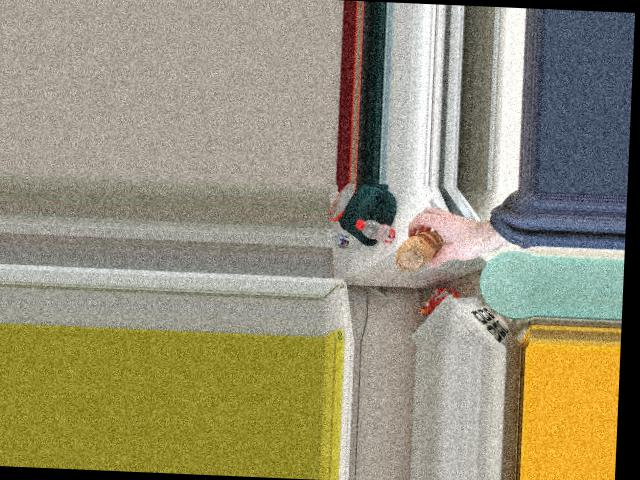sweet_potato: (393, 230, 444, 271)
